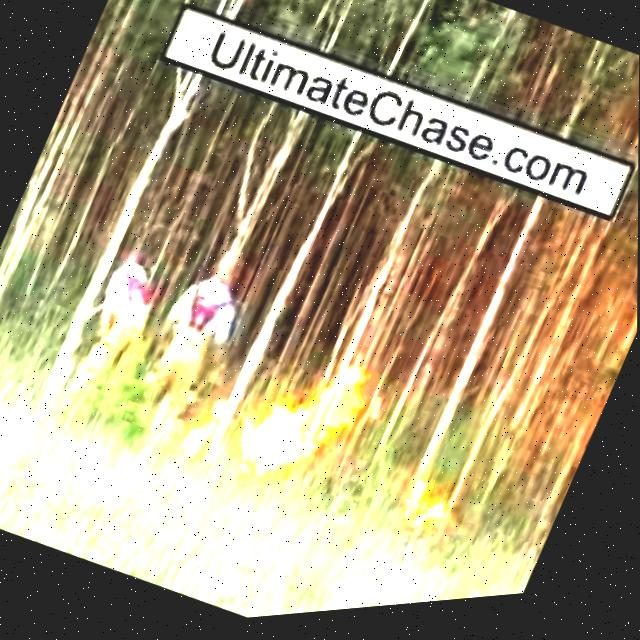Smoke: (226, 321, 393, 514), (176, 383, 248, 477), (390, 476, 462, 557)
